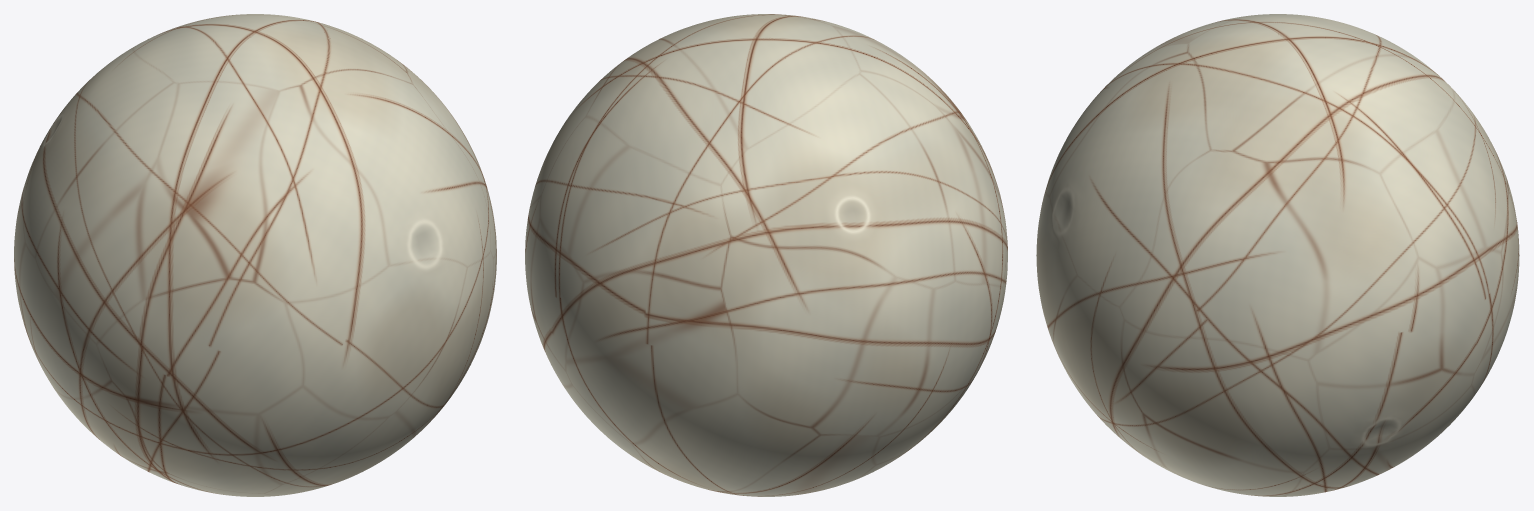
The model's file is europa.glb.
3 renders of one model, left to right at view 1: azimuth 30°, elevation 25°; view 2: azimuth 150°, elevation 25°; view 3: azimuth 270°, elevation 25°, orthographic.
Parts seen in each view (by area): view 1: model; view 2: model; view 3: model.
Boxes of the visible parts, x1,y1,x2,y2 form: model: (14, 14, 496, 496); model: (525, 14, 1007, 496); model: (1036, 14, 1519, 496).
Bounding box in the file's own units: 2 × 2 × 2.
1 material, 1 textured.
